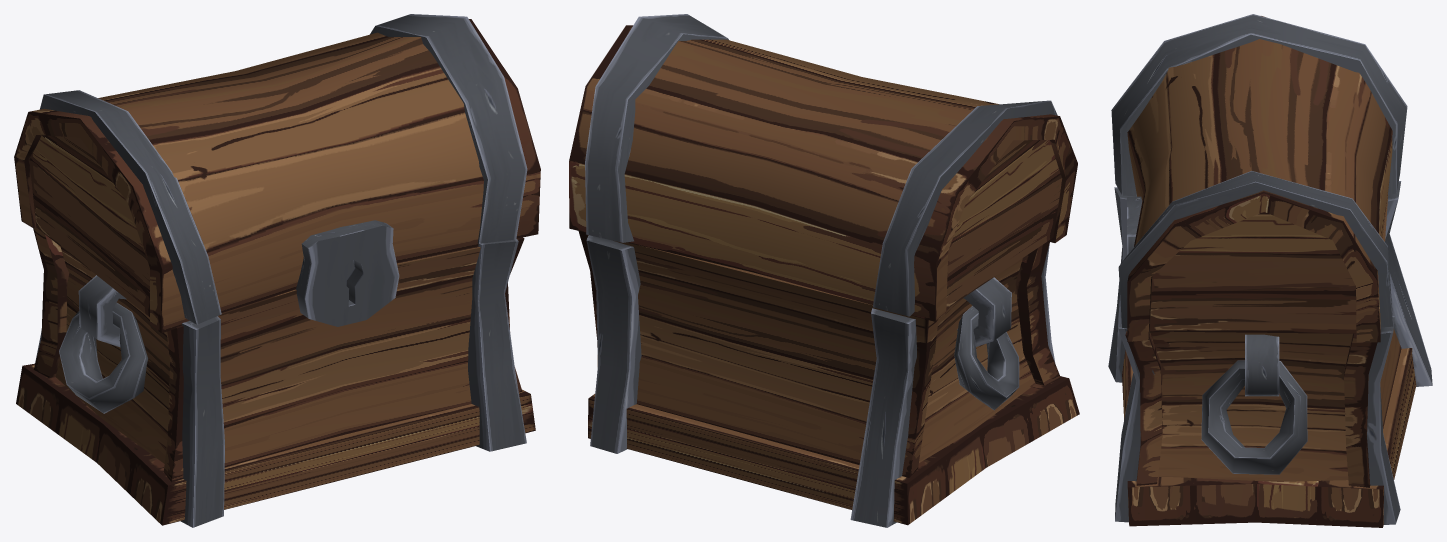
Rendered from SM_PROP_chest_dungeon_02.fbx.
3 renders of one model, left to right at view 1: azimuth 30°, elevation 25°; view 2: azimuth 150°, elevation 25°; view 3: azimuth 270°, elevation 25°, orthographic. The views are drawn at different scales.
Visible parts, largest first — view 1: SM_PROP_chest_top_dungeon_02, SM_PROP_chest_dungeon_02; view 2: SM_PROP_chest_top_dungeon_02, SM_PROP_chest_dungeon_02; view 3: SM_PROP_chest_top_dungeon_02, SM_PROP_chest_dungeon_02.
Boxes of the visible parts, <box> form: SM_PROP_chest_top_dungeon_02: <box>14,14,540,333</box>; SM_PROP_chest_dungeon_02: <box>16,227,535,527</box>; SM_PROP_chest_top_dungeon_02: <box>569,14,1077,321</box>; SM_PROP_chest_dungeon_02: <box>578,231,1079,527</box>; SM_PROP_chest_top_dungeon_02: <box>1111,14,1407,342</box>; SM_PROP_chest_dungeon_02: <box>1108,181,1432,527</box>.
Bounding box in the file's own units: 77.75 × 70.36 × 58.44.
